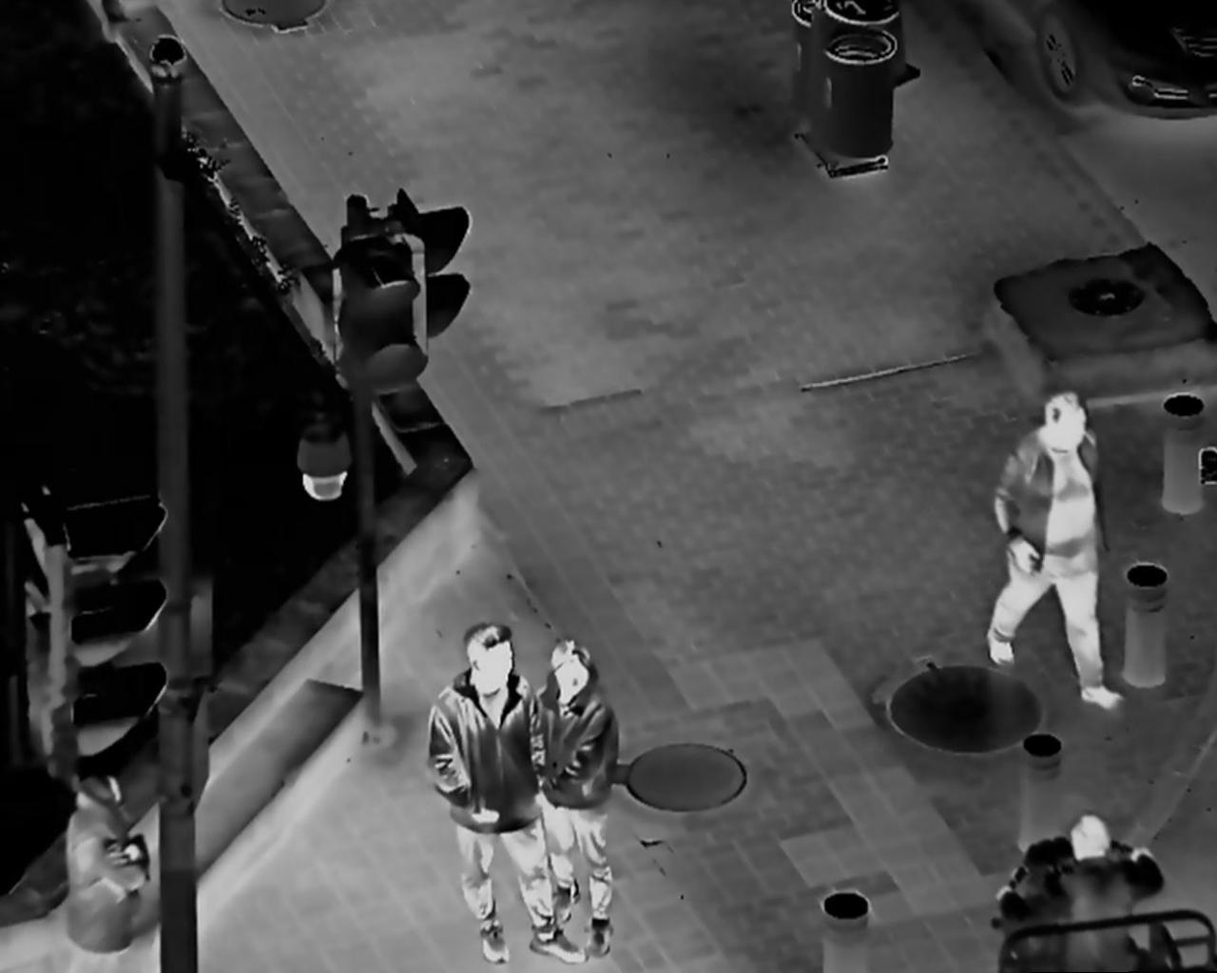person: (419, 618, 589, 964), (988, 388, 1134, 712), (531, 639, 628, 963), (47, 756, 159, 973)
